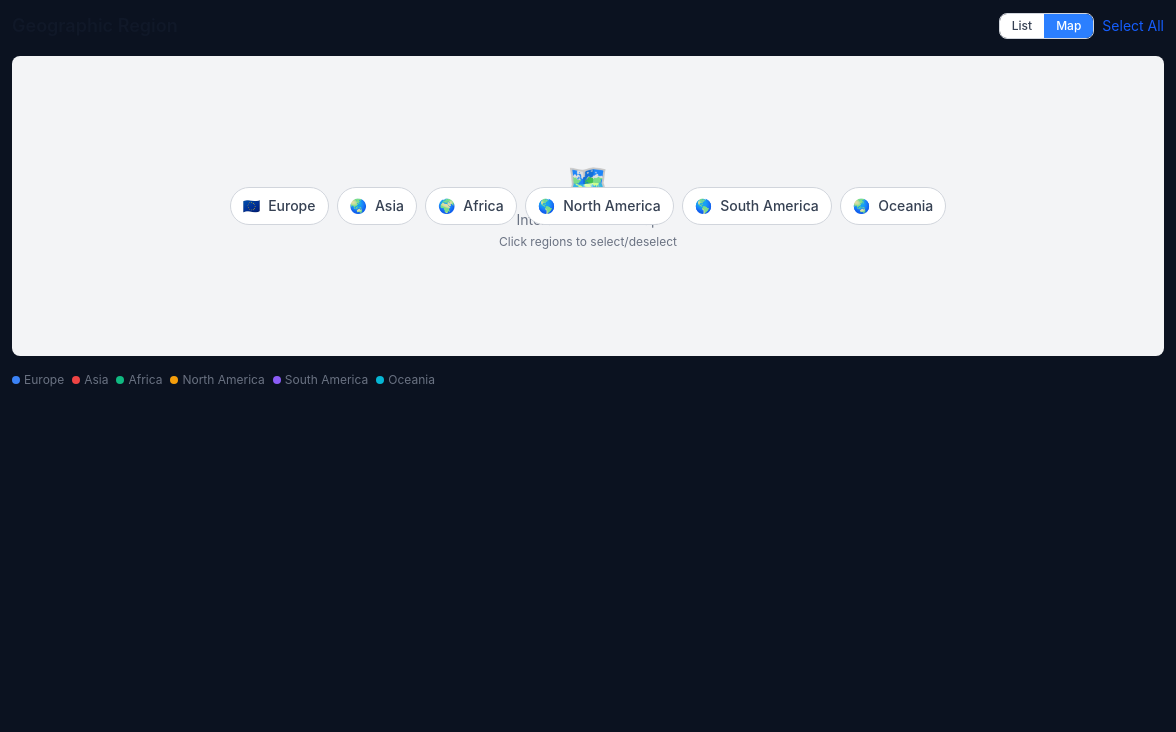
Test: GeographicRegionFilter › 视图切换 › 应该支持切换回列表视图
Click the button "List": (1022, 26) [1000,14,1044,38]
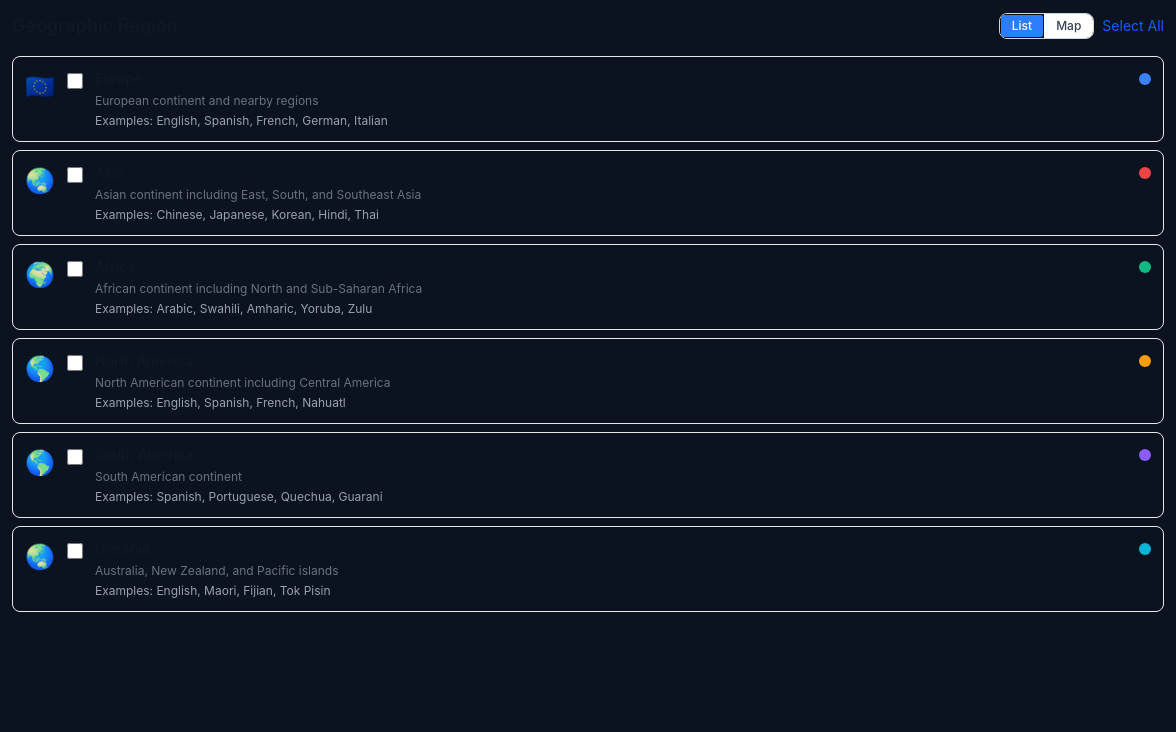
Check: the text "Interactive world map" is gone
